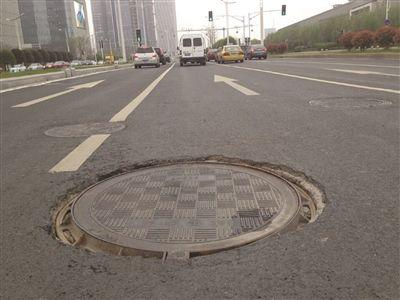wellcover: (34, 150, 341, 279)
